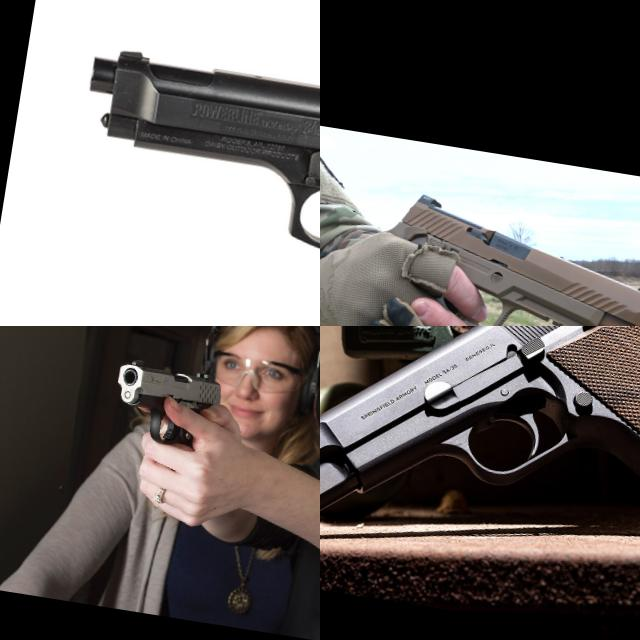handgun: (320, 326, 640, 624), (43, 36, 320, 326), (362, 183, 640, 326), (107, 352, 227, 454)
